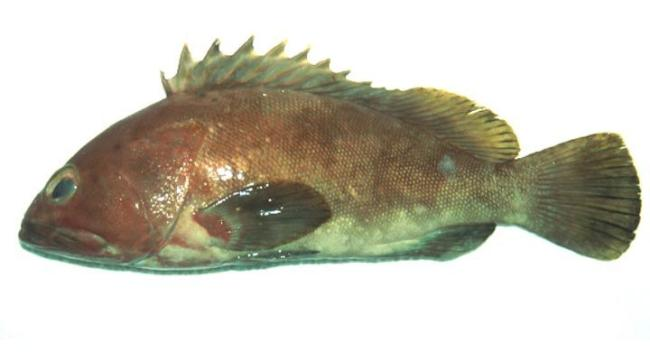fish: (17, 34, 642, 274)
